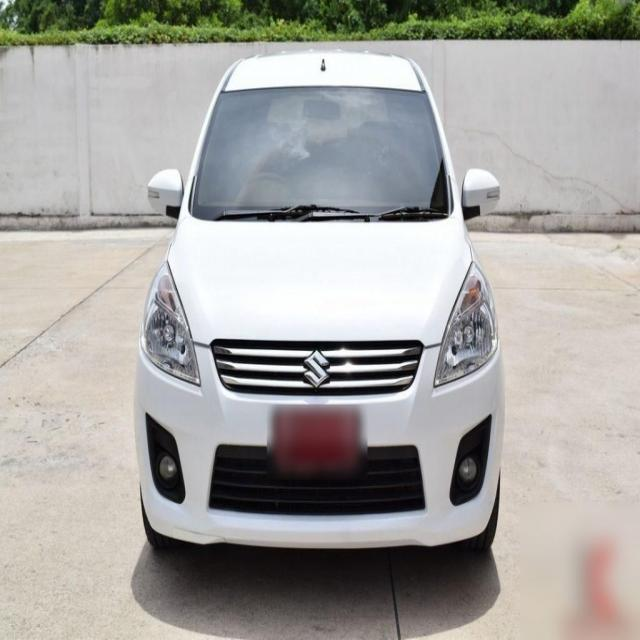front_bumper: (134, 335, 505, 549)
front_glass: (189, 86, 453, 222)
front_left_light: (433, 262, 498, 388)
front_right_light: (141, 260, 200, 387)
hood: (167, 213, 471, 348)
left_mirror: (461, 168, 500, 222)
right_mirror: (148, 167, 184, 221)
